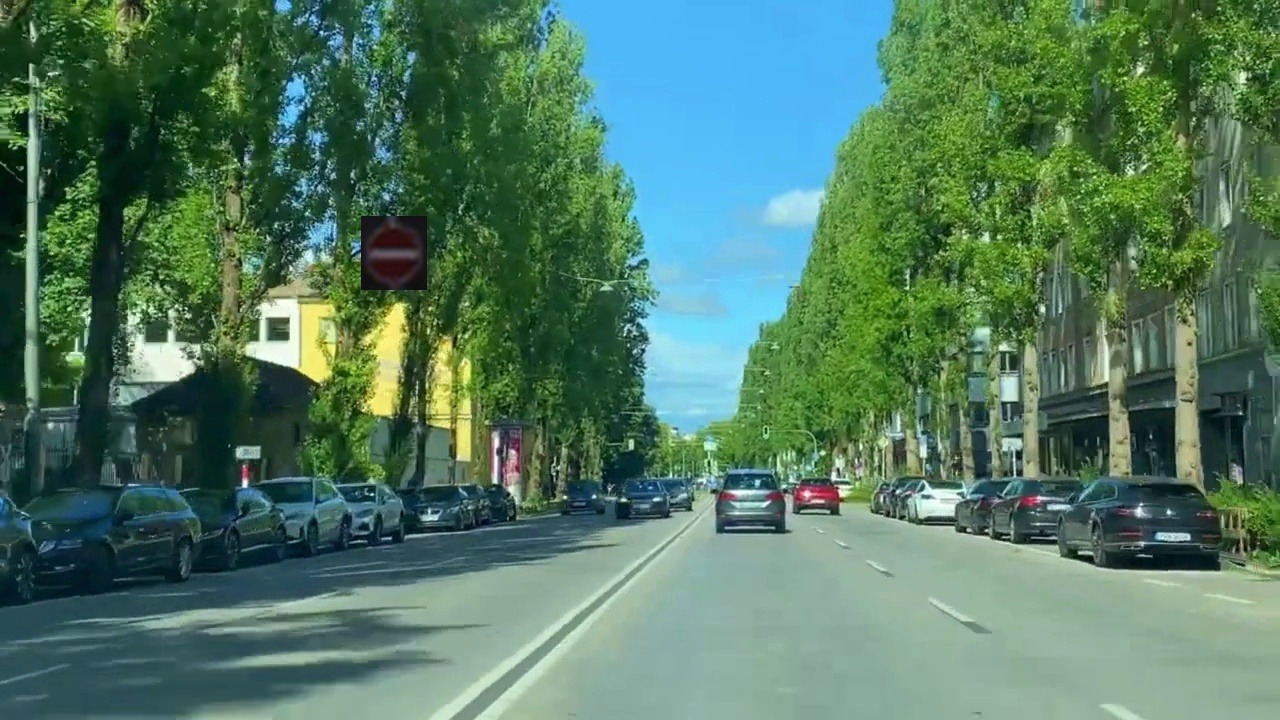No entry: (361, 216, 427, 290)
